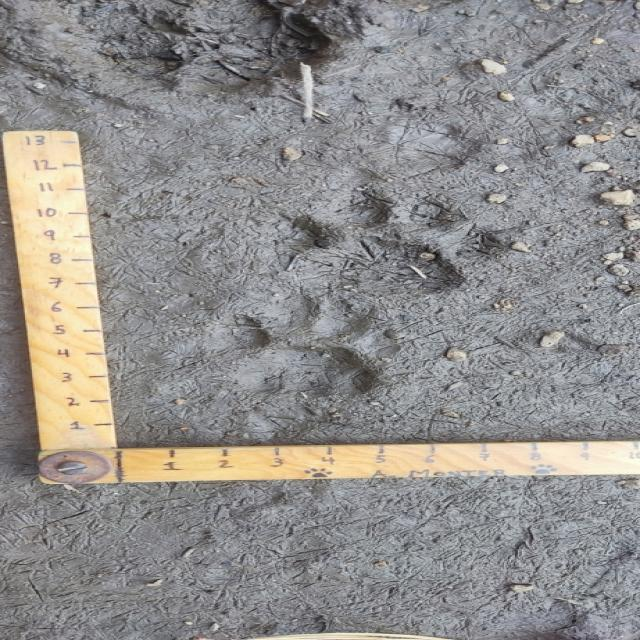felid: (286, 195, 505, 289), (220, 293, 394, 395)
